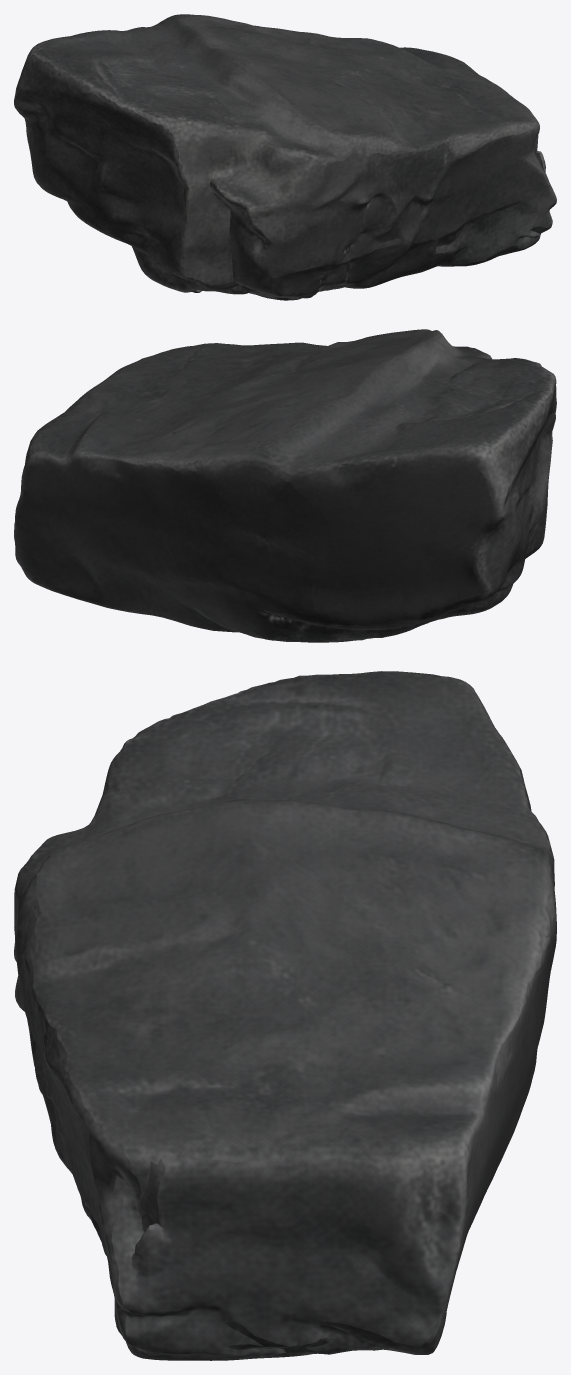
The picture shows the model from 3 angles, top to bottom: view 1: azimuth 30°, elevation 25°; view 2: azimuth 150°, elevation 25°; view 3: azimuth 270°, elevation 25°; orthographic projection. The views are drawn at different scales.
Visible parts, largest first — view 1: world; view 2: world; view 3: world.
Part boxes in pixels (<box>): world: <box>14,14,556,300</box>; world: <box>14,329,556,642</box>; world: <box>14,671,556,1360</box>.
Size of the model in its own units: 2.5 by 1.25 by 1.65.
1 material, 1 textured.
